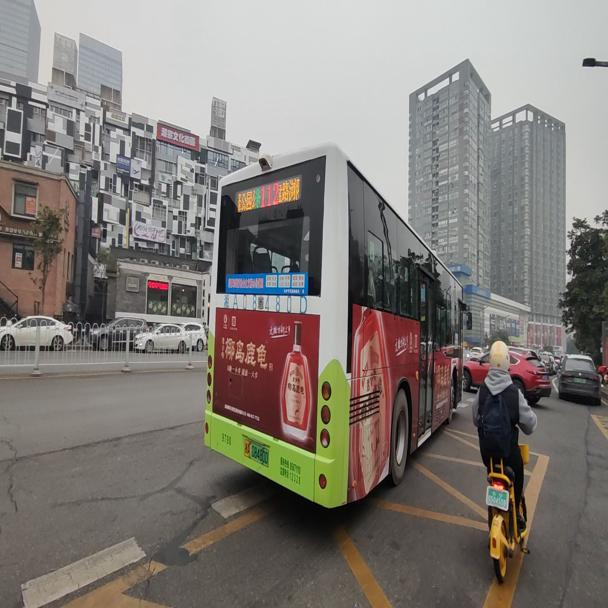bus: (202, 132, 474, 508)
screen: (258, 184, 278, 207)
